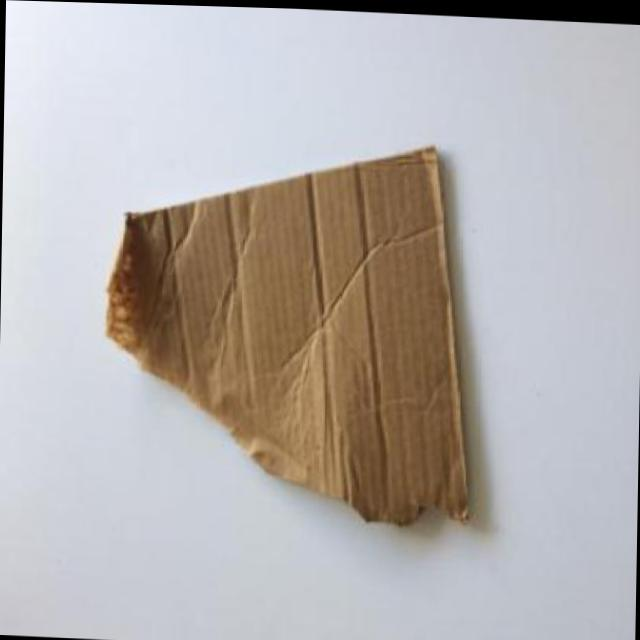box: (90, 124, 508, 548)
